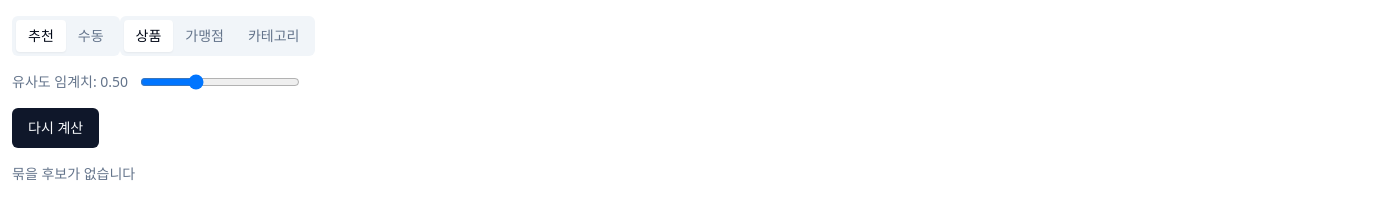
Test: ClusterTab › ClusterTab: 추천/수동 모드 토글 가능, 수동 모드 진입 시 검색 인풋 노출
Click the tab "수동". click: [91, 36]
box: [66,20,116,52]
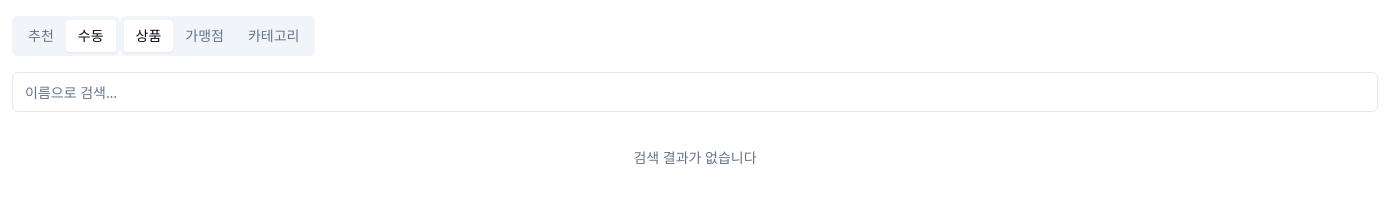
Now the field with placeholder "이름으로 검색…" is shown, box [12,72,1378,112]
